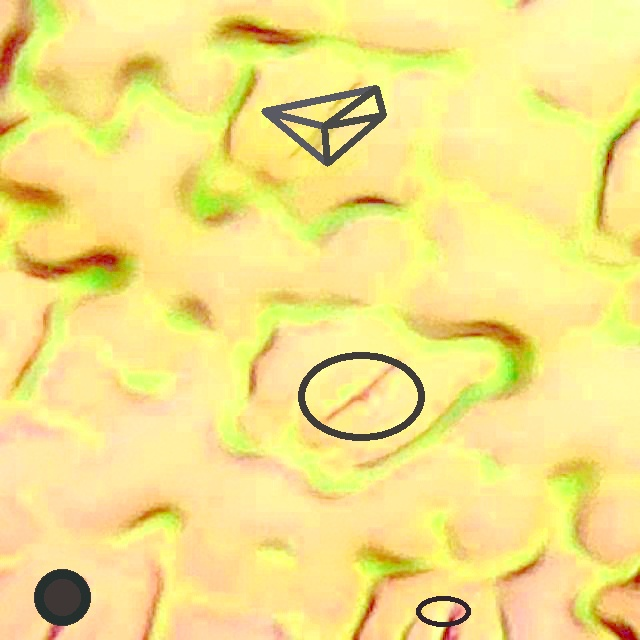close: (297, 351, 425, 441), (261, 85, 386, 166), (416, 595, 471, 627)
open: (35, 569, 90, 624)
